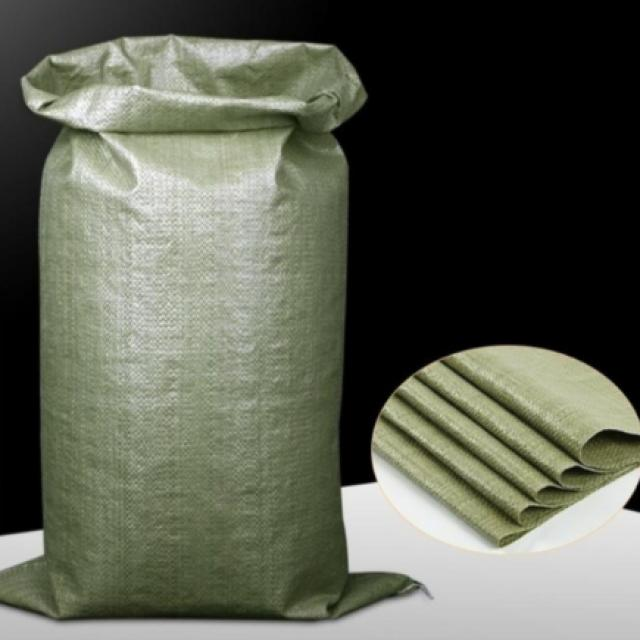PP bag: (6, 27, 422, 632)
